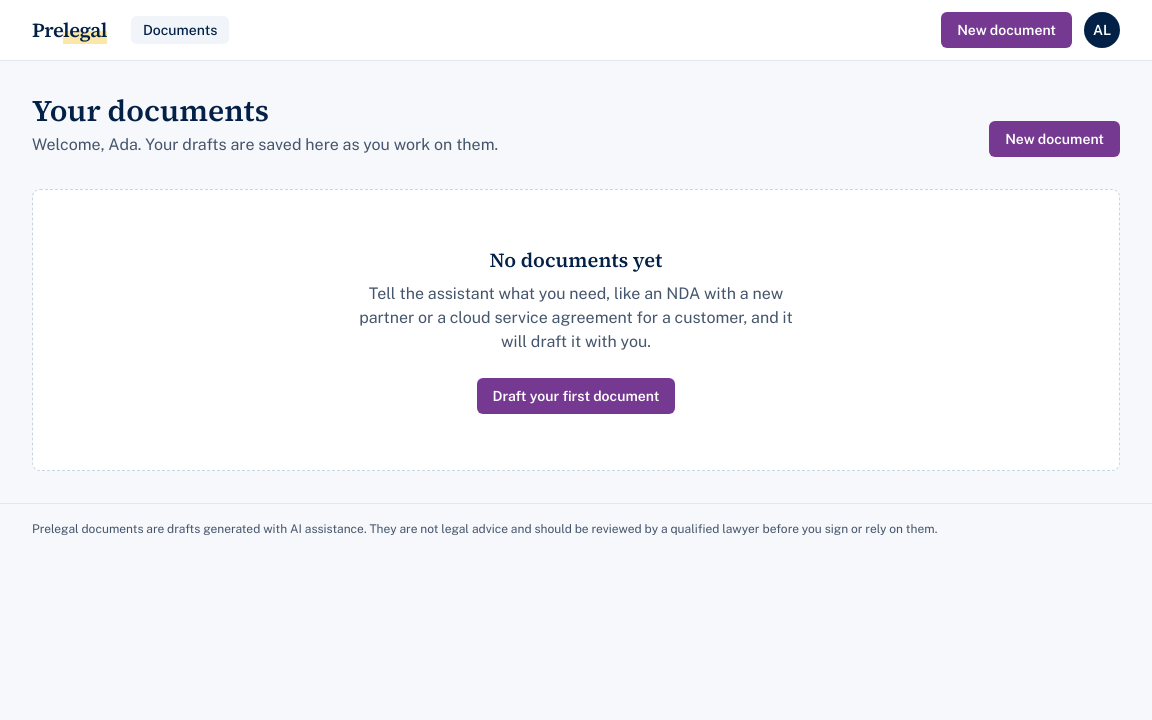
it: documents page › stays signed in when signing out fails
This screenshot has width=1152, height=720.
Click the button with aria-label "Account menu for Ada Lovelace". click: (1102, 30)
box: x1=1084 y1=12 x2=1120 y2=48
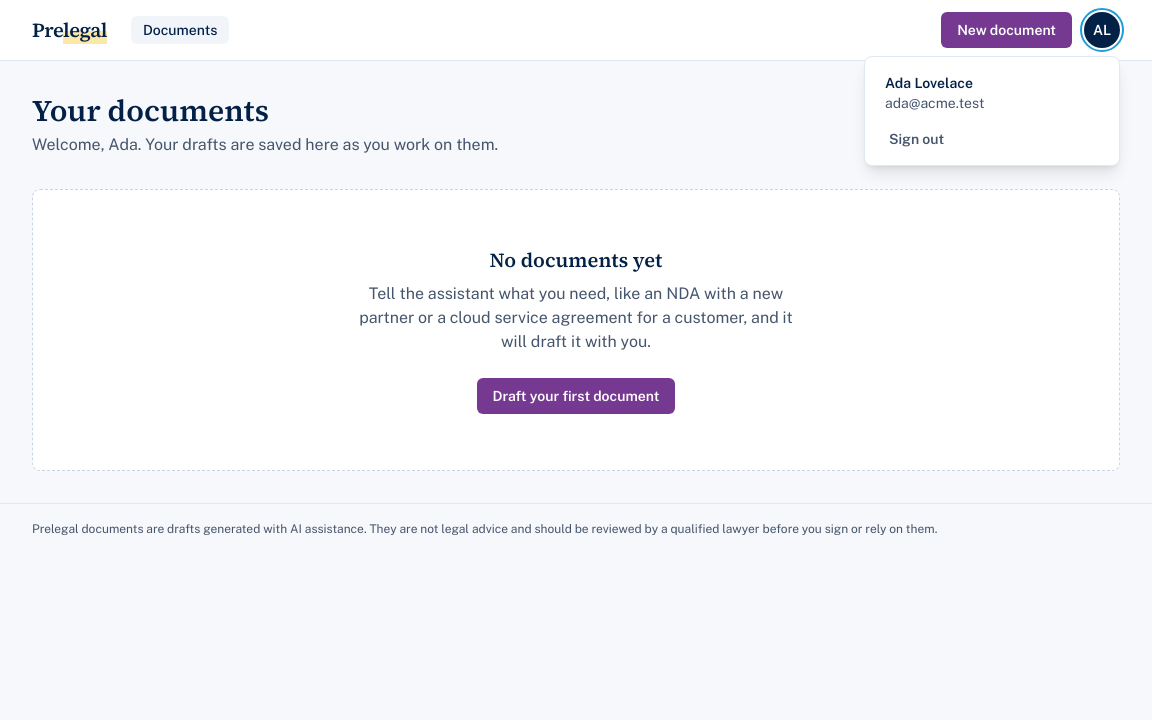
Click the button "Sign out". click: (992, 139)
box: x1=873 y1=121 x2=1111 y2=157
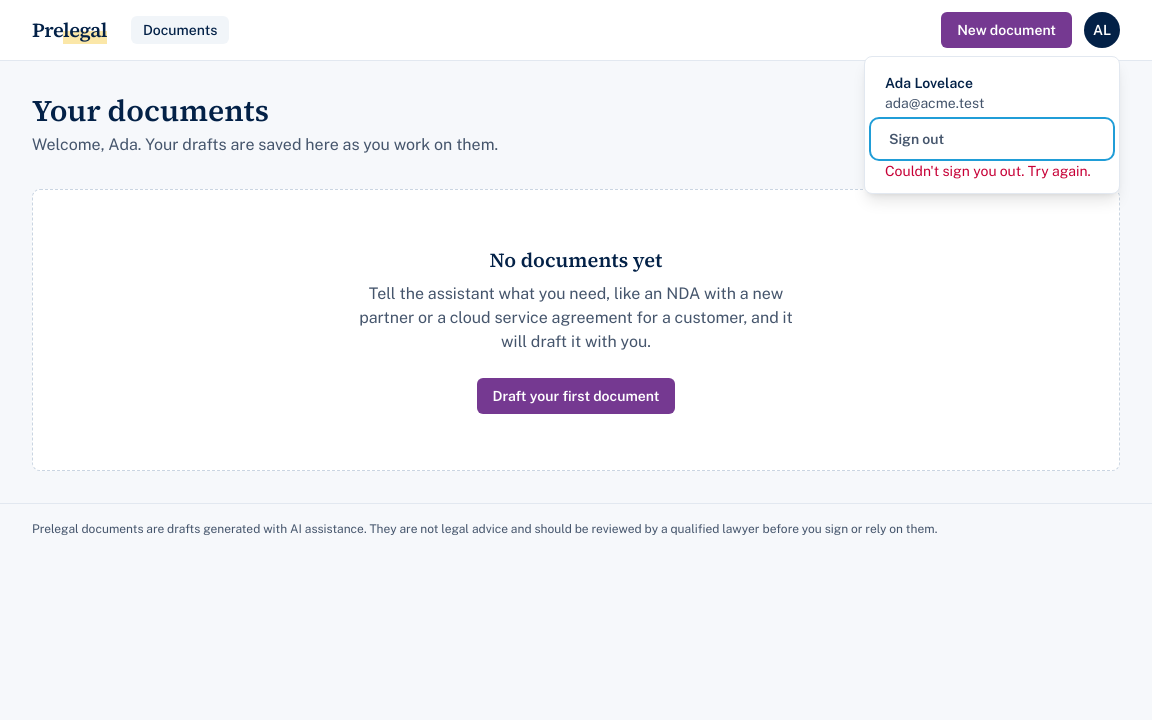
Expected: the text "Couldn't sign you out. Try again." is shown, x1=885 y1=163 x2=1091 y2=179
